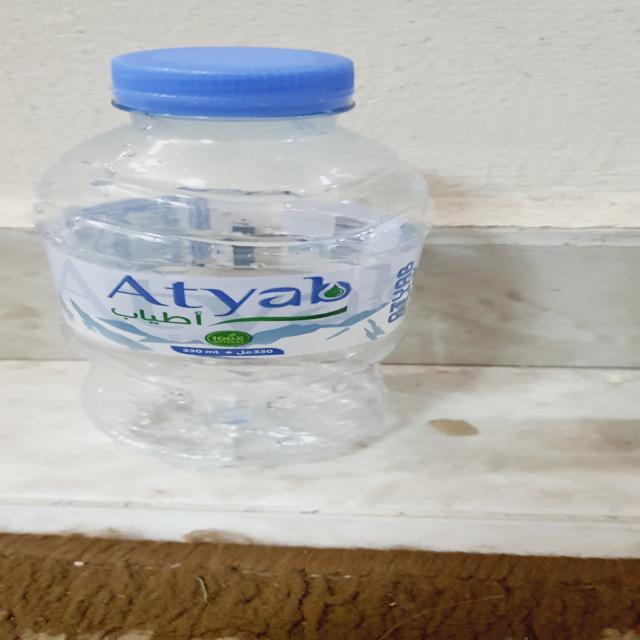plastic: (32, 46, 436, 467)
